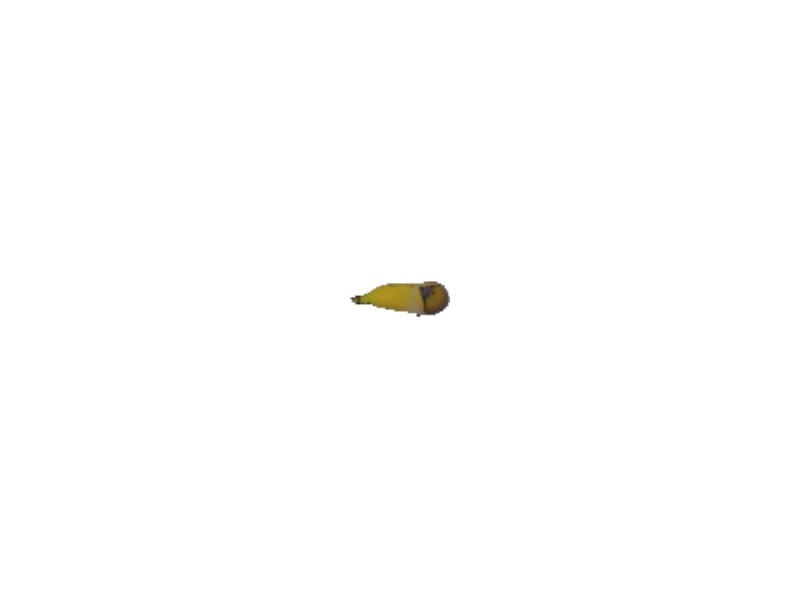banana: (349, 279, 453, 319)
